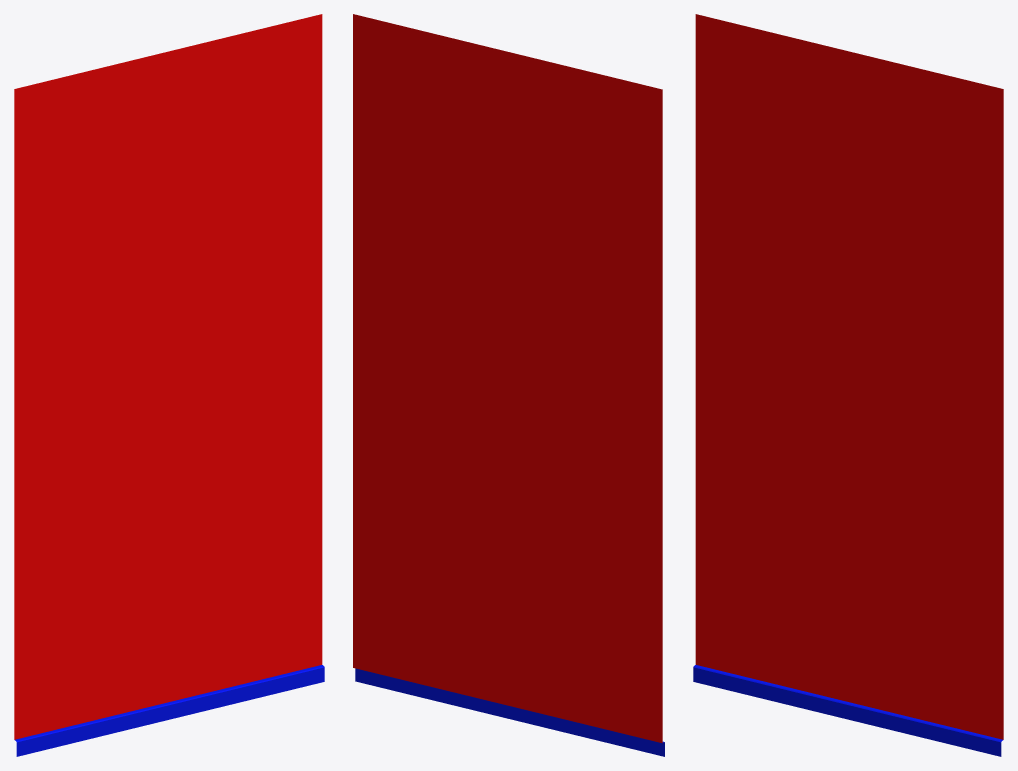
Rendered from Wall_4.fbx.
3 views of the same model, side by side, from view 1: azimuth 30°, elevation 25°; view 2: azimuth 150°, elevation 25°; view 3: azimuth 330°, elevation 25° (orthographic).
Visible parts, largest first — view 1: Wall_4; view 2: Wall_4; view 3: Wall_4.
Part boxes in pixels (x1=…): Wall_4: x1=14, y1=14, x2=324, y2=756; Wall_4: x1=353, y1=14, x2=664, y2=756; Wall_4: x1=693, y1=14, x2=1003, y2=756.
Bounding box in the file's own units: 150 × 310 × 2.
